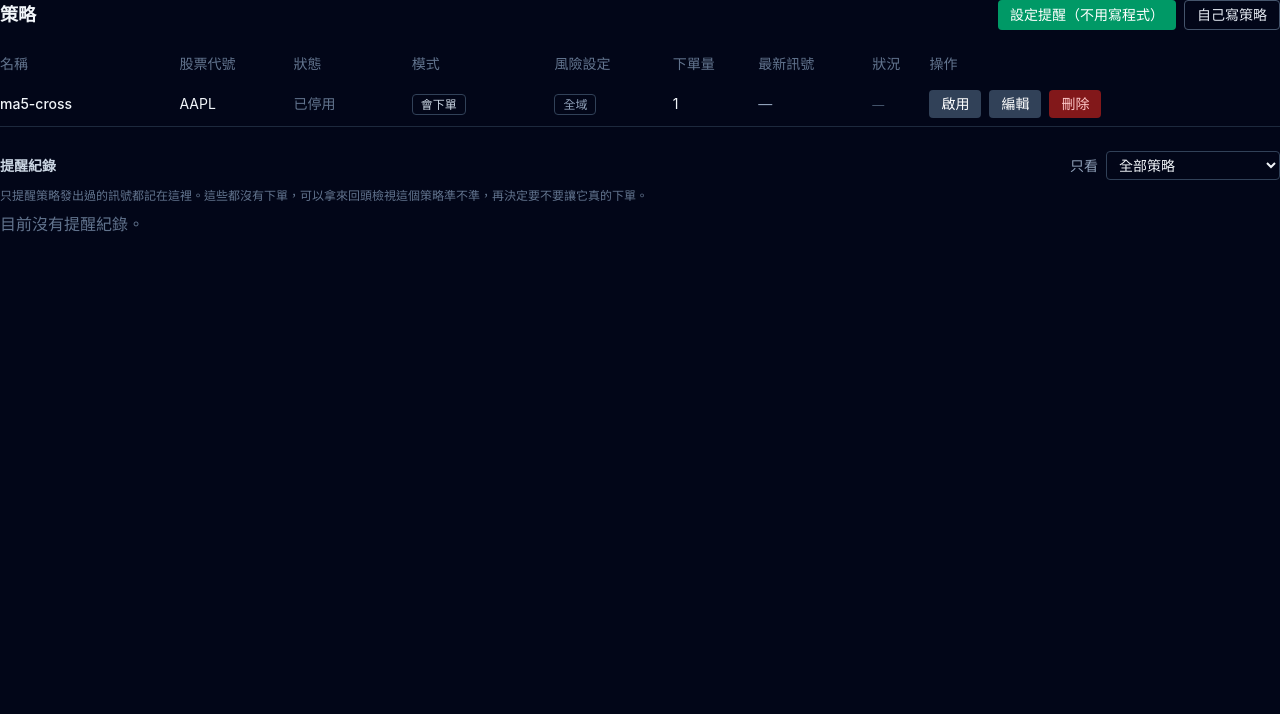
StrategiesPage › shows a network failure as text rather than a blank panel
Click the button "自己寫策略": [1232, 15] box [1184, 0, 1279, 30]
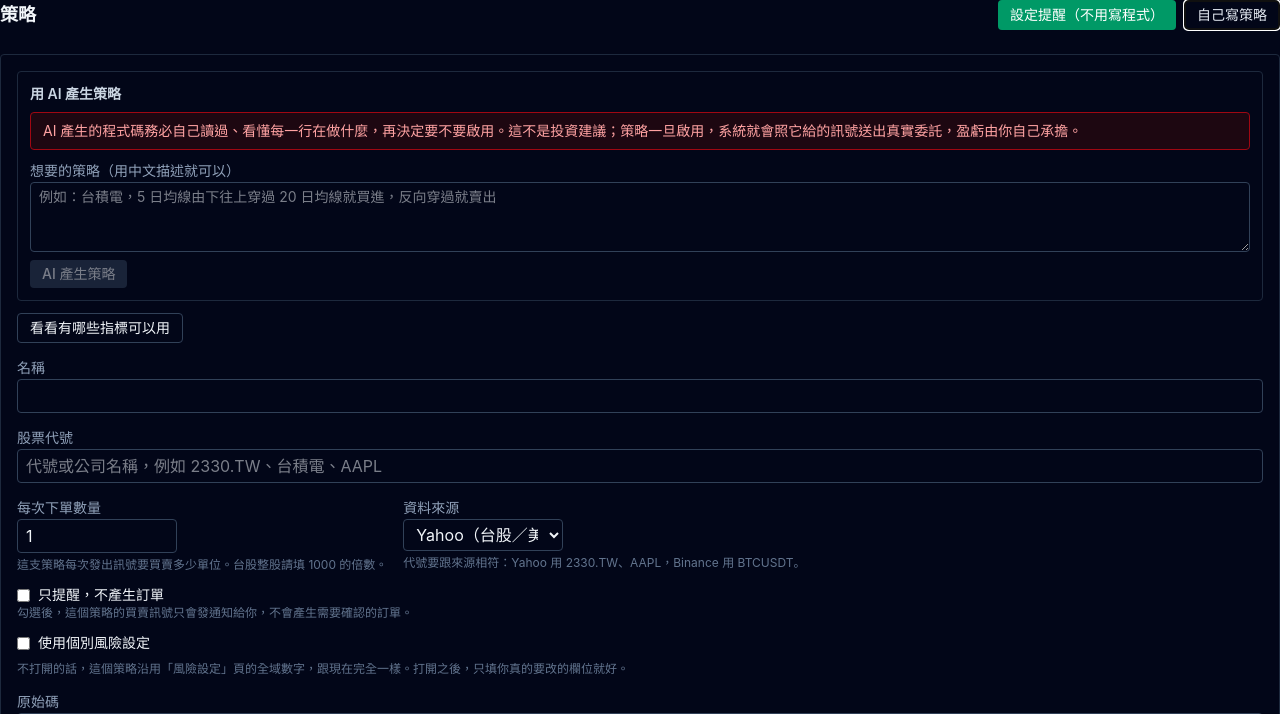
In the text box labelled "想要的策略（用中文描述就可以）": [640, 217] box [30, 182, 1250, 252], type "隨便給我一個策略"
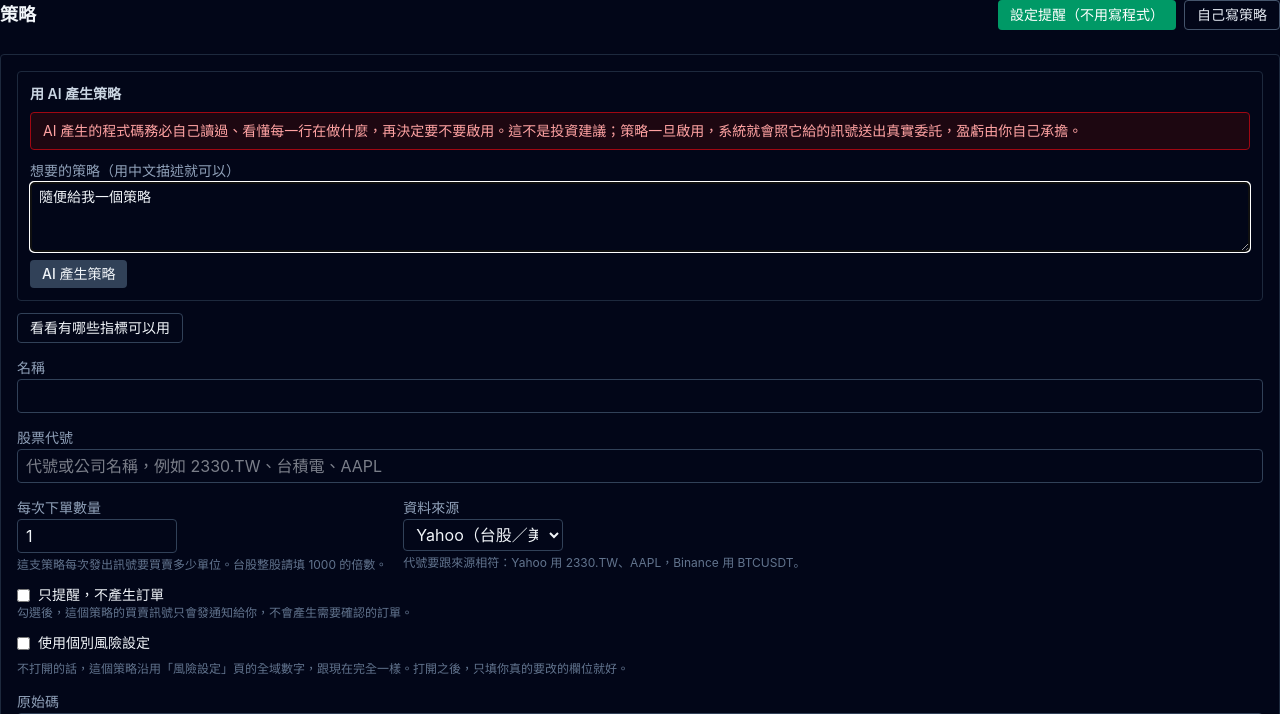
Click the button "AI 產生策略": [79, 274] box [30, 260, 128, 288]
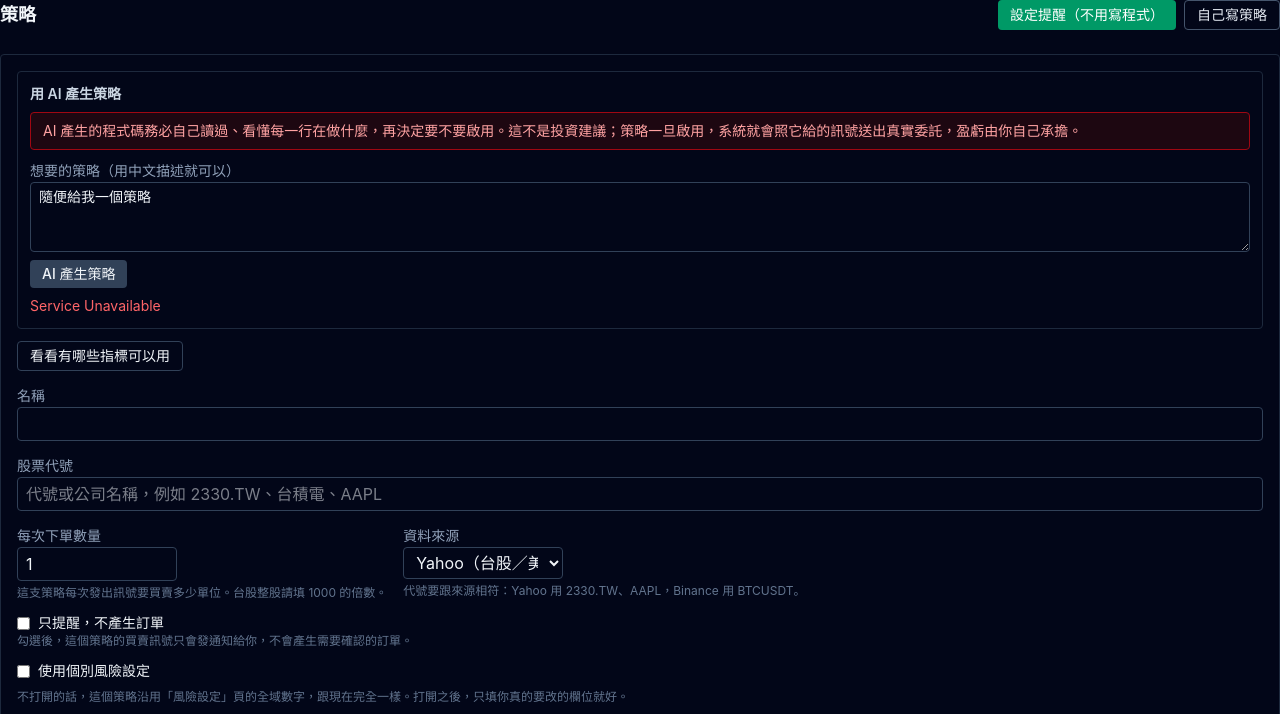
Now the text "Service Unavailable" is shown, box [30, 297, 161, 314]
